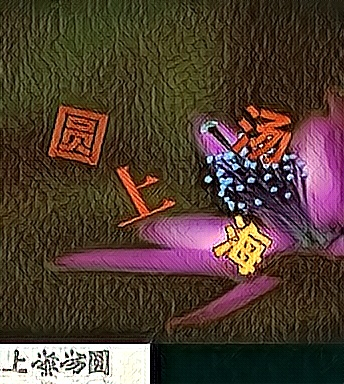BAA3: (209, 212, 273, 278)
C9CF: (114, 163, 178, 229)
CCC0: (230, 101, 294, 167)
D4B2: (45, 101, 109, 167)
